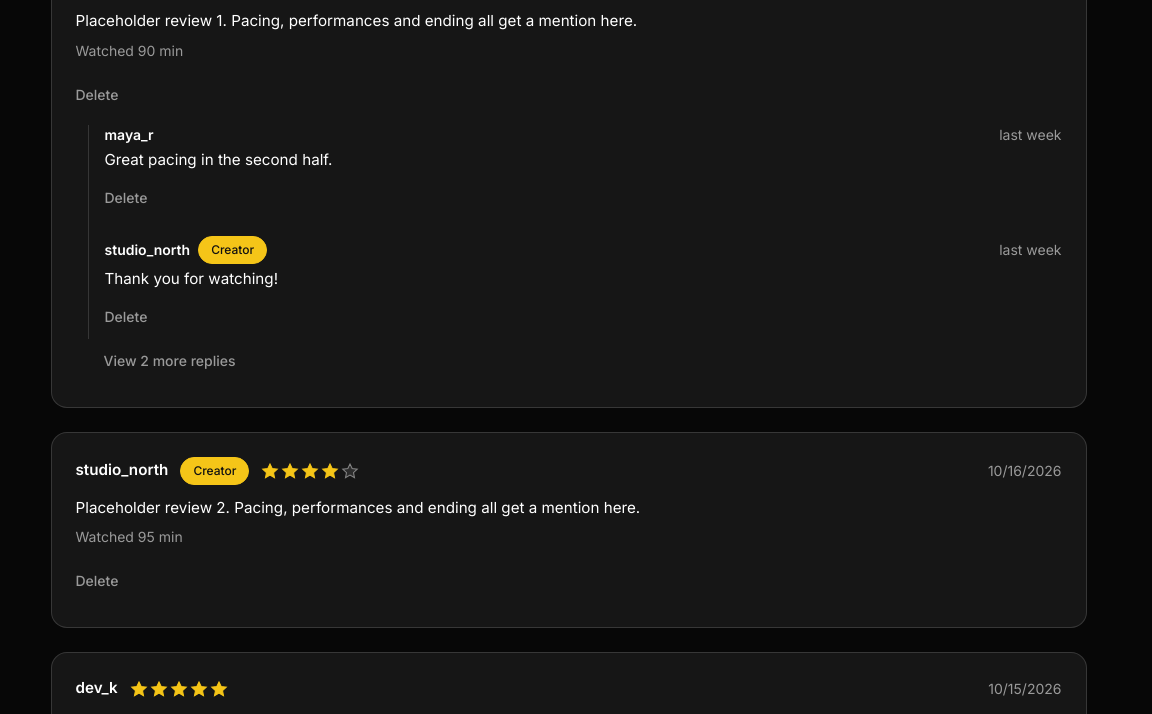
Test: delete controls › show on every review and reply for an admin
(page scrolled)
Expected: the text "Great pacing in the second half." is shown, [104,150,332,169]
Expected: the number of buttons named "Delete reply" is 2, [104,176,147,220]; [104,295,147,339]
What coordinates should you click on to do the following:
click the button "View 2 more replies"
I would click on:
 (162, 361)
Its box is [88,339,236,383].
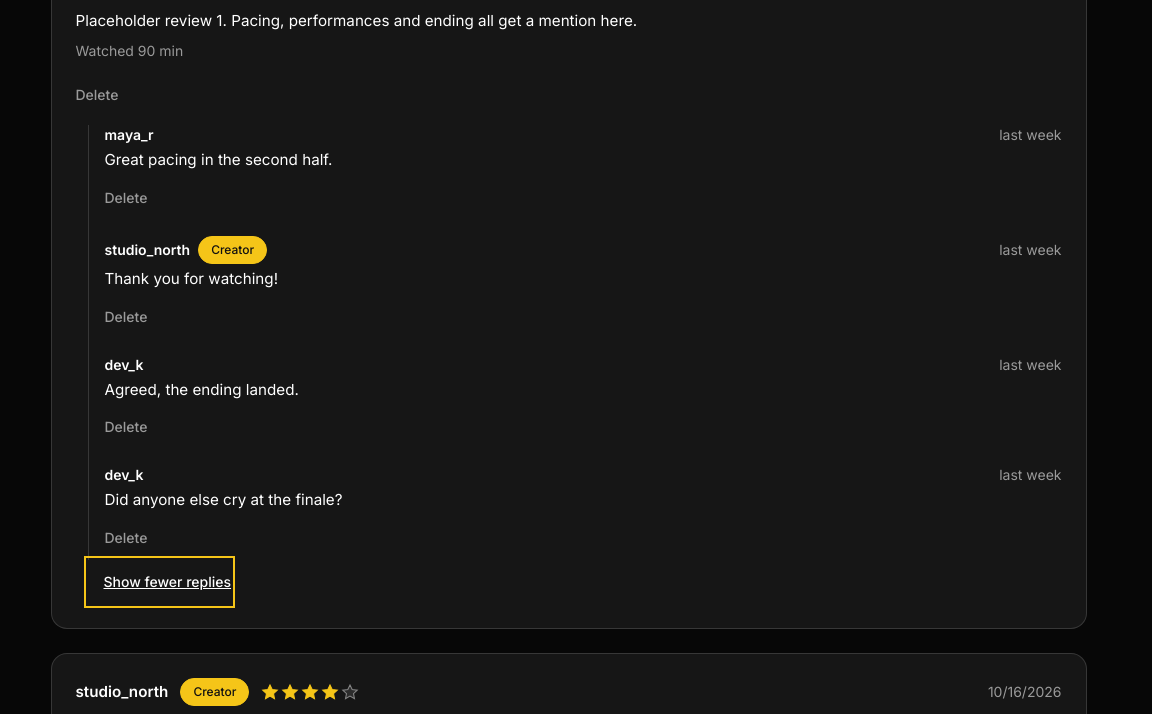
Expected: the number of buttons named "Delete reply" is 4, [104,176,147,220]; [104,295,147,339]; [104,405,147,449]; [104,516,147,560]
